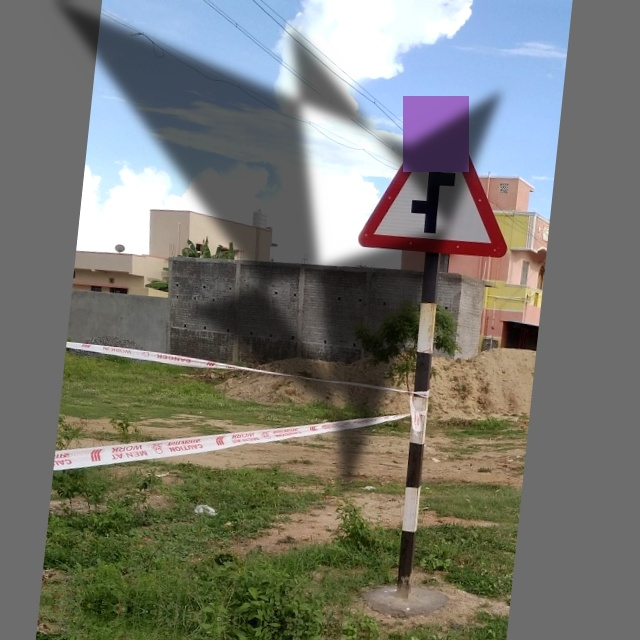Staggered_Intersection: (364, 86, 525, 261)
